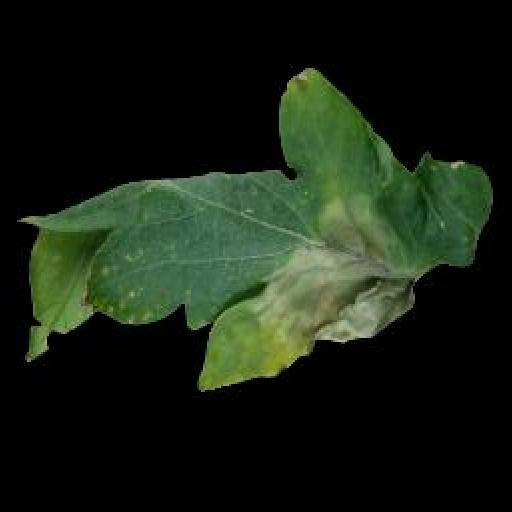disease_tomato: (16, 74, 492, 394)
